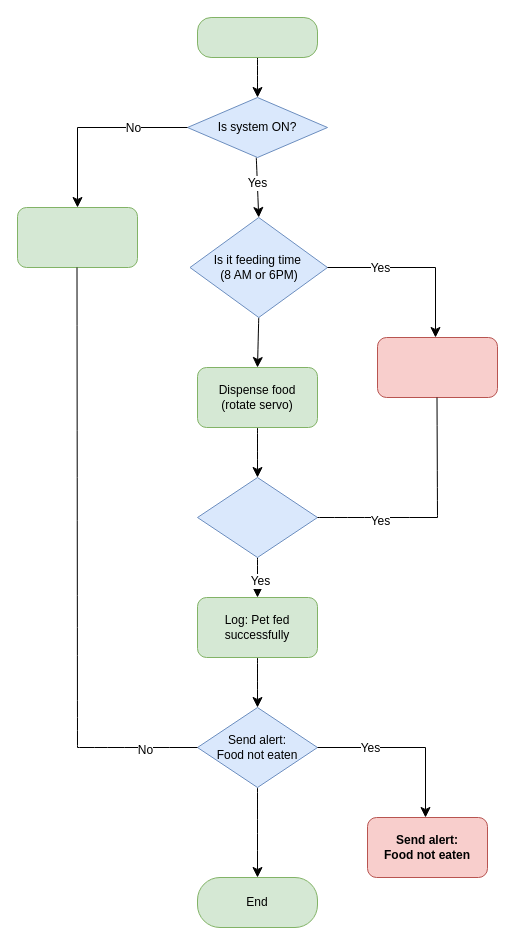
Some shapes in this 515 by 945 pixel diagram are drawn without their labels. Here are the shapes that lost their labels. From the top down, the box of each, then its label:
(196, 16, 318, 58): Start
(16, 206, 138, 268): Wait until system is ON
(376, 336, 498, 398): Send alert: No food available
(196, 476, 318, 558): Has bowl weight changed?
